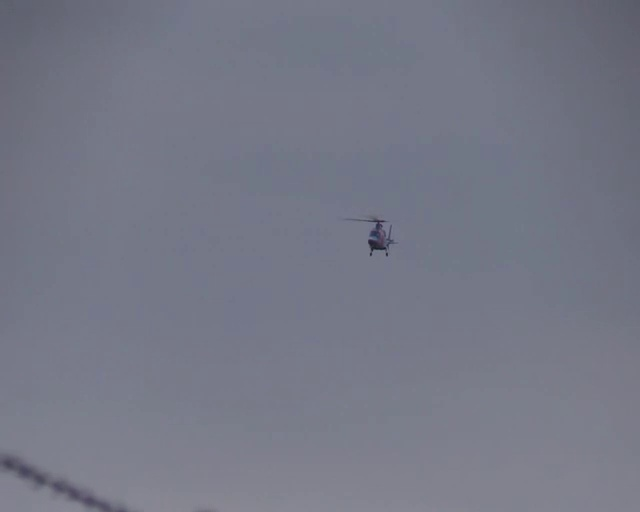HELICOPTER: (339, 214, 398, 257)
